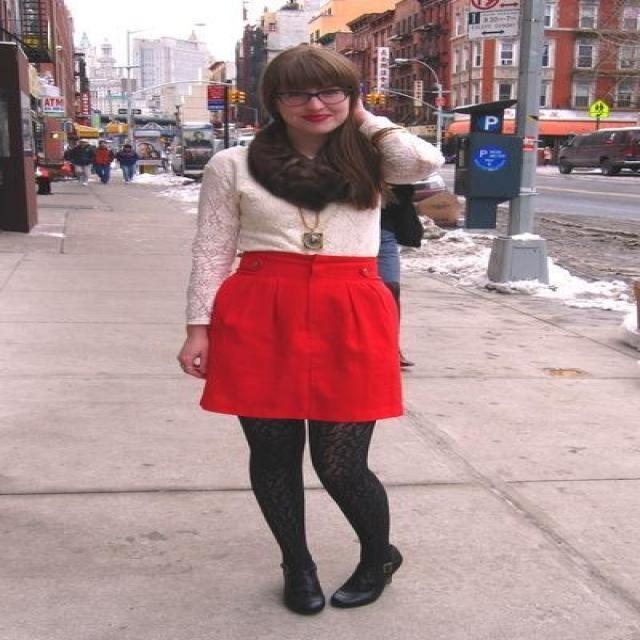jacket: (165, 100, 442, 326)
shoe: (280, 541, 402, 614)
skirt: (184, 251, 402, 421)
